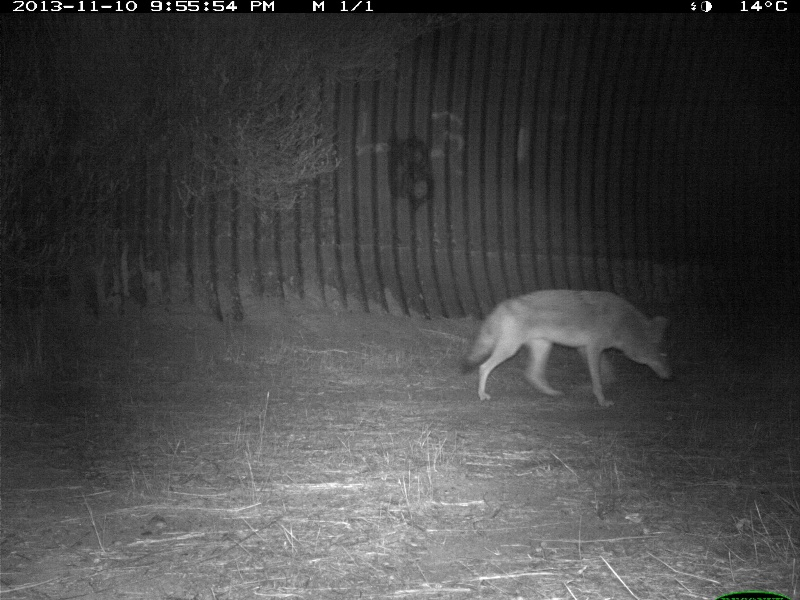coyote: (459, 287, 680, 411)
